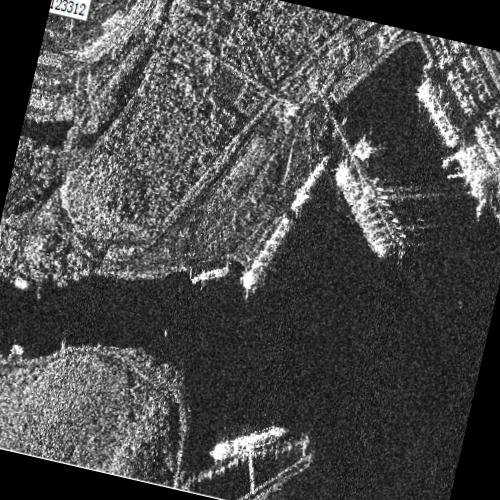ship: (334, 160, 388, 257), (238, 213, 291, 289), (415, 80, 459, 150), (209, 426, 289, 461), (290, 153, 331, 211), (190, 265, 229, 284), (13, 275, 28, 289)
